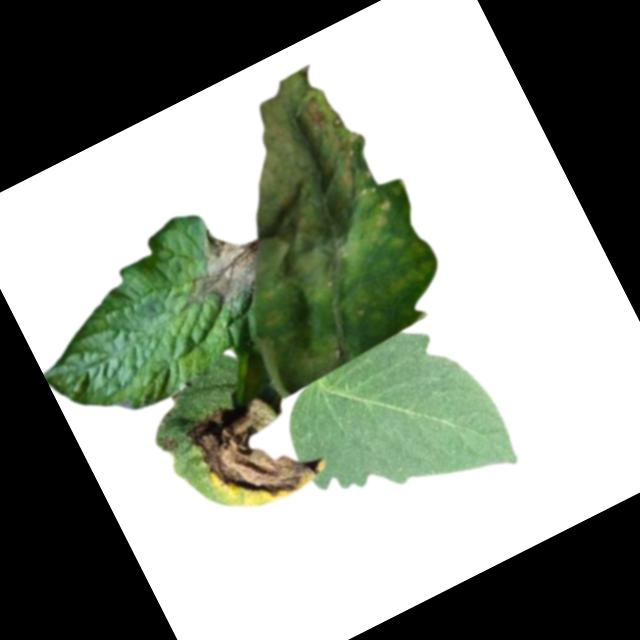Late_blight: (157, 51, 463, 392), (178, 376, 331, 525), (151, 207, 278, 328), (156, 431, 180, 456)
healthy: (269, 309, 523, 549)
